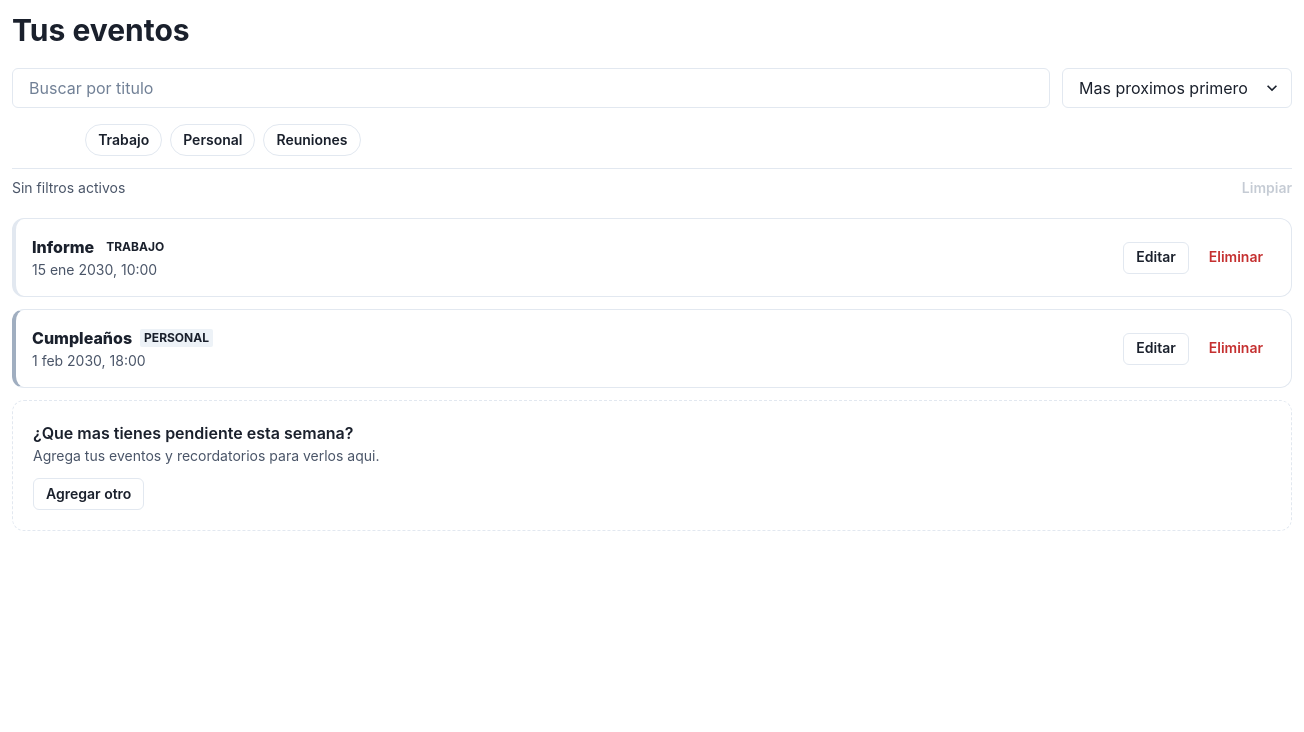
Test: EventsPage (integracion) › filtra por categoria con los chips y permite limpiar
This screenshot has width=1304, height=732.
Expected: the text "Informe" is shown, [32,235,94,259]
Click the button "Personal": (213, 140) [170,124,256,156]
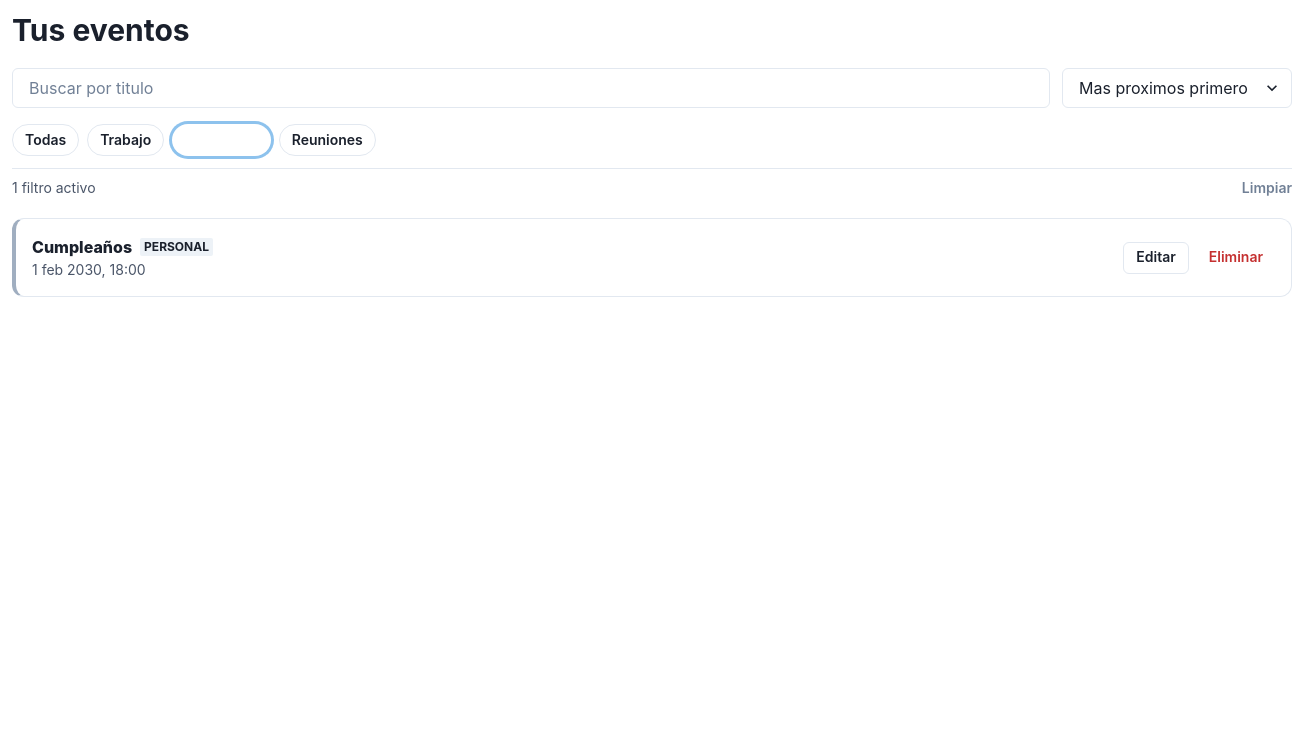
Expected: the text "Cumpleaños" is shown, [32,235,132,259]
Result: the text "Informe" is gone
Result: the text "1 filtro activo" is shown at [12,177,96,198]
Click the button "Limpiar": (1267, 188) [1242,179,1292,196]
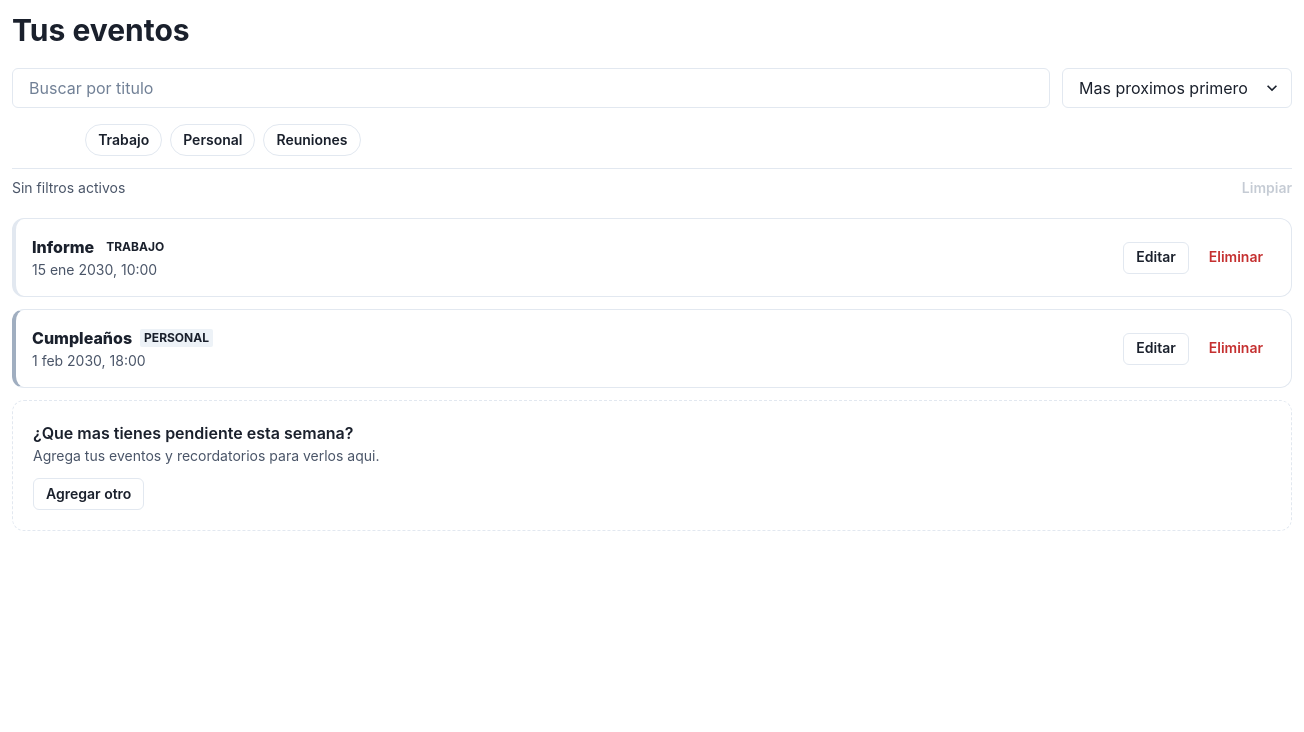
Result: the text "Informe" is shown at [32,235,94,259]
